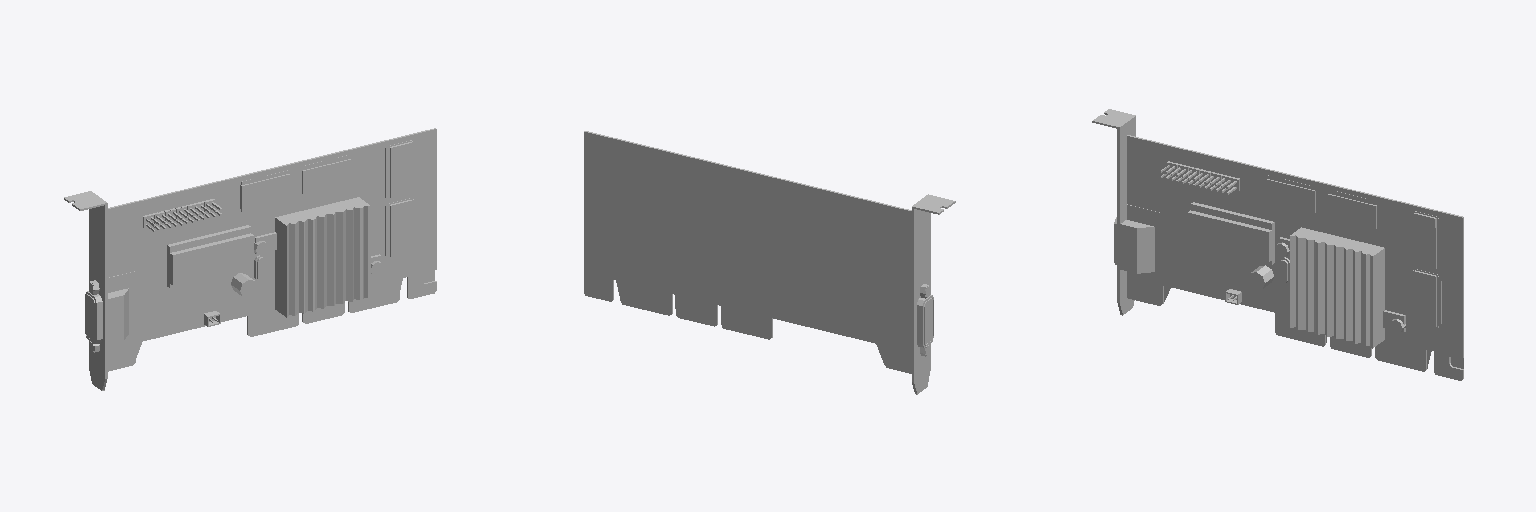
The model's file is old-gpu-1-animation.obj.
The picture shows the model from 3 angles: view 1: azimuth 30°, elevation 25°; view 2: azimuth 150°, elevation 25°; view 3: azimuth 330°, elevation 25°; orthographic projection.
Visible parts, largest first — view 1: gpu-1; view 2: gpu-1; view 3: gpu-1.
Boxes of the visible parts, <box> form: gpu-1: <box>64,128,436,390</box>; gpu-1: <box>584,131,955,394</box>; gpu-1: <box>1092,109,1463,380</box>.
Bounding box in the file's own units: 1.33 × 0.6659 × 0.1348.